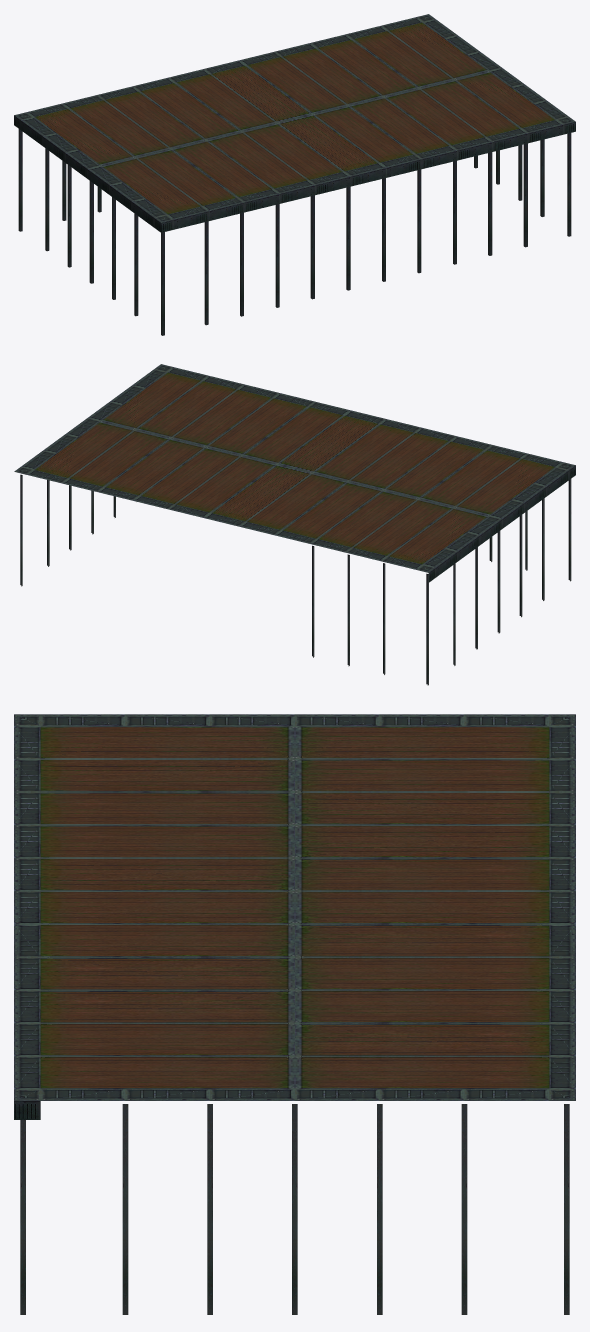
The model's file is yw_museyulin_pingtai01.FBX.
The picture shows the model from 3 angles, top to bottom: view 1: azimuth 30°, elevation 25°; view 2: azimuth 150°, elevation 25°; view 3: azimuth 270°, elevation 25°; orthographic projection. The views are drawn at different scales.
Visible parts, largest first — view 1: yw_museyulin_pingtai01; view 2: yw_museyulin_pingtai01; view 3: yw_museyulin_pingtai01.
Boxes of the visible parts, box(x1,y1,x2,y2) form: yw_museyulin_pingtai01: box(14, 14, 575, 335); yw_museyulin_pingtai01: box(14, 364, 575, 685); yw_museyulin_pingtai01: box(14, 714, 575, 1314).
Bounding box in the file's own units: 3387 × 896 × 2081.
